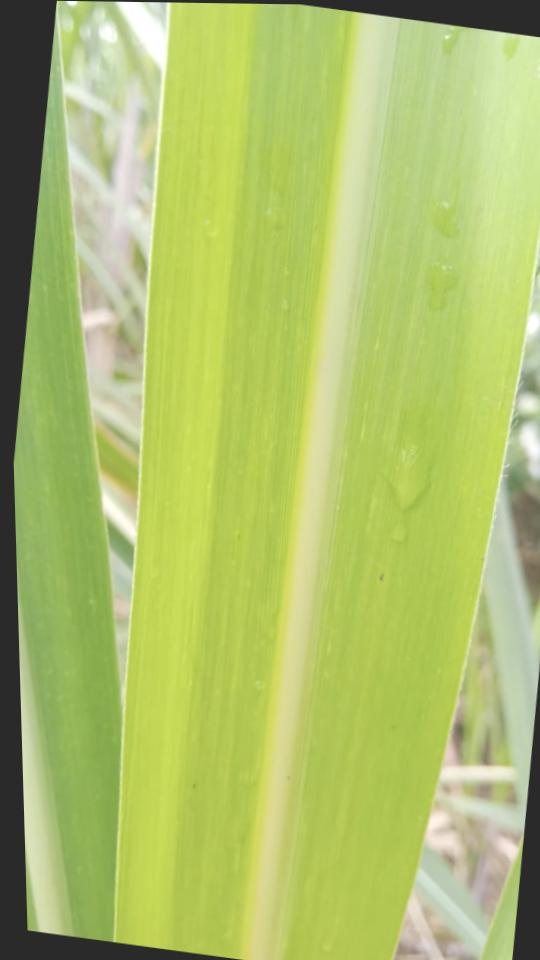Healthy: (108, 2, 540, 960), (14, 25, 124, 941)
